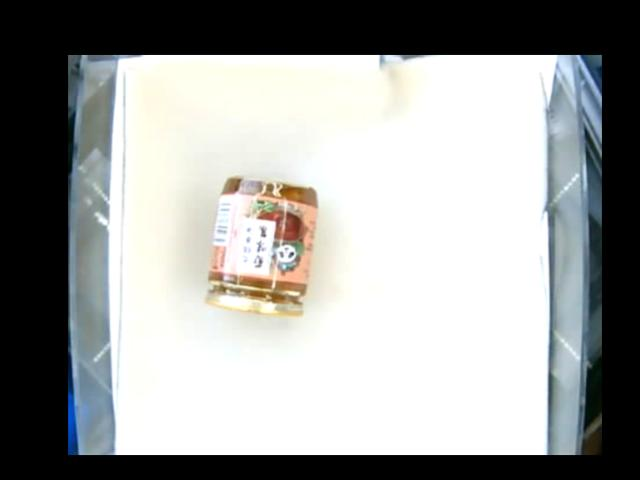Bottle: (200, 177, 317, 318)
